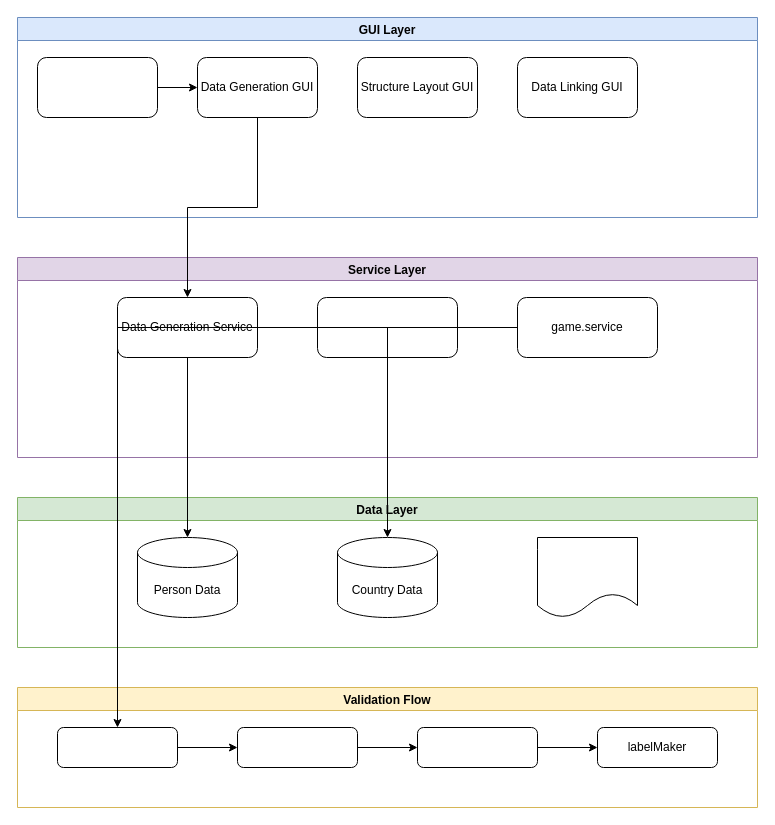
This 775x825 diagram has some shape labels left out. Each missing label, with the centre of its shape:
blockMaker: point 477,747
cubeMaker: point 297,747
Generated TS Files: point 587,577
rubixCubeMaker: point 117,747
Structure Layout Service: point 387,327
Tab System: point 97,87
